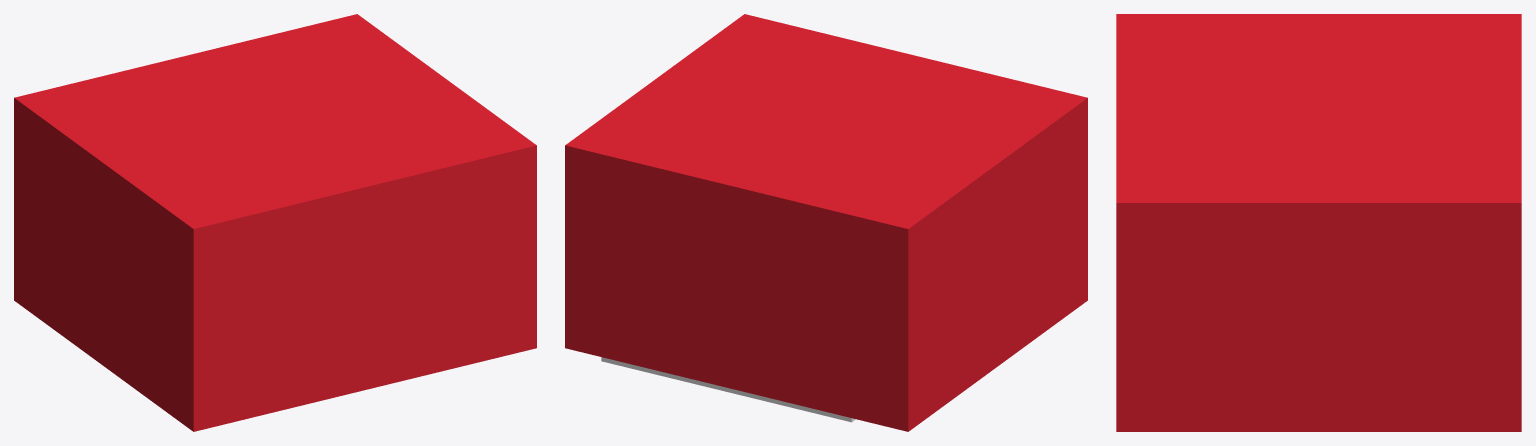
The model's file is tinker.obj.
3 renders of one model, left to right at view 1: azimuth 30°, elevation 25°; view 2: azimuth 150°, elevation 25°; view 3: azimuth 270°, elevation 25°, orthographic. The views are drawn at different scales.
Parts seen in each view (by area): view 1: group_0_15277357; view 2: group_0_15277357, group_0_16448250; view 3: group_0_15277357.
Boxes of the visible parts, x1,y1,x2,y2 form: group_0_15277357: (14, 14, 536, 431); group_0_15277357: (565, 14, 1087, 431); group_0_16448250: (601, 357, 855, 422); group_0_15277357: (1116, 14, 1521, 431).
Bounding box in the file's own units: 85 × 52 × 77.
